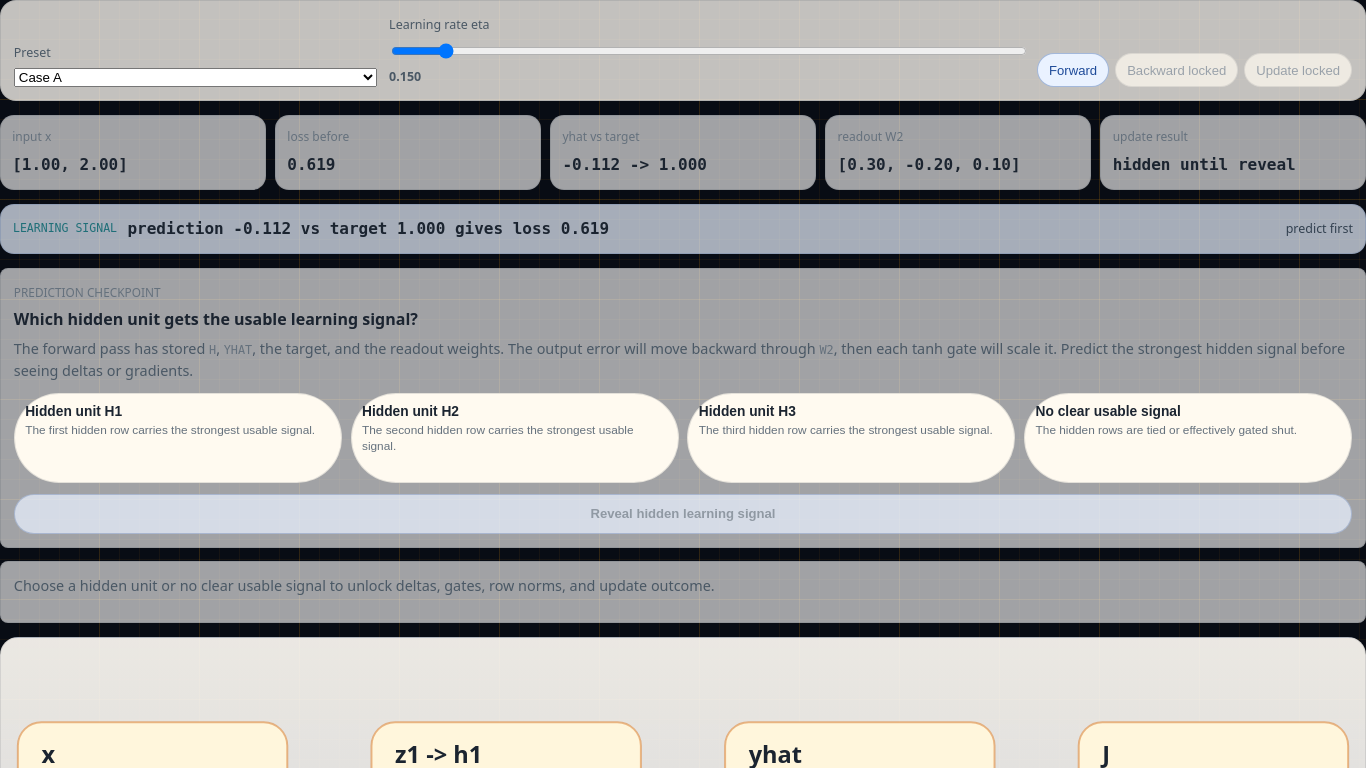
Test: BackpropagationViz hidden learning-signal reveal › keeps Case C neutral until reveal, then exposes no clear usable hidden signal
Step 1. Select "Case C" in the dropdown labelled "Preset" → (195, 78), box x1=14 y1=68 x2=377 y2=87
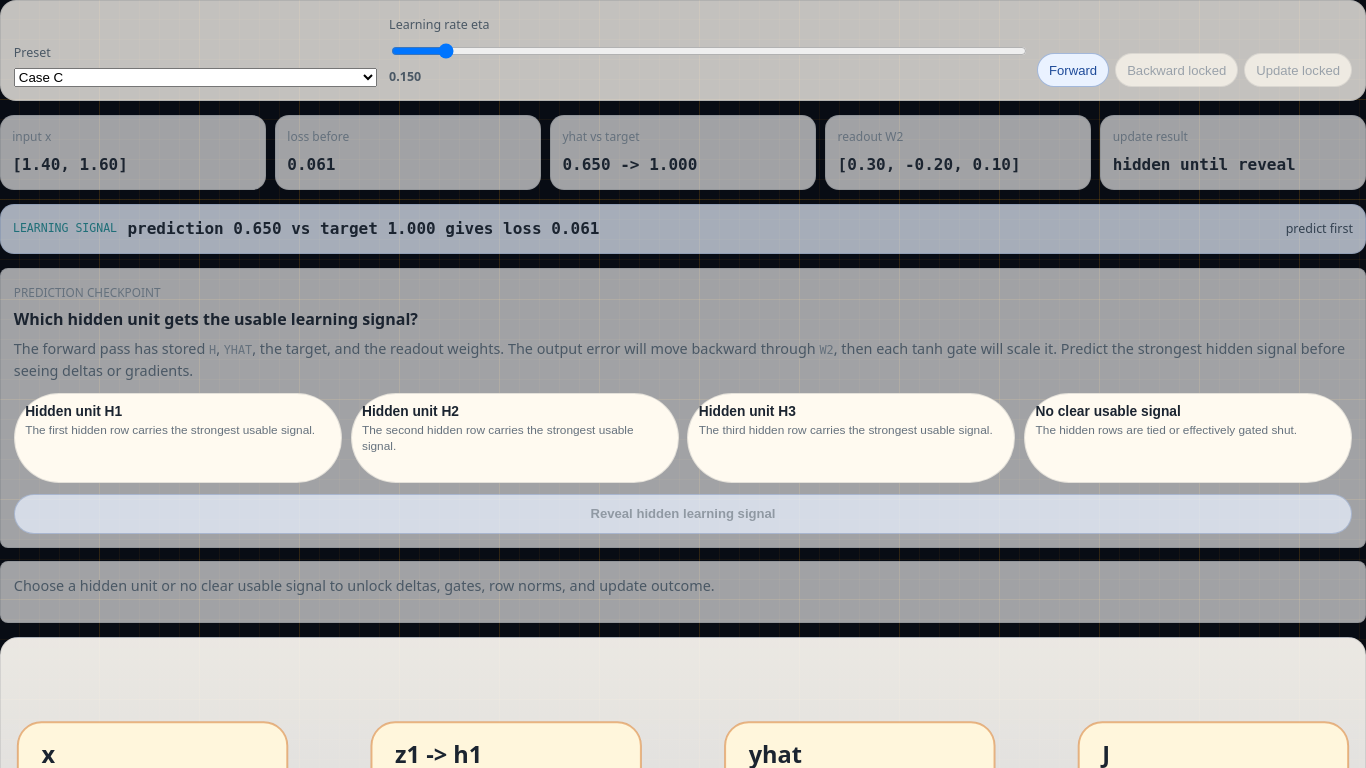
Step 2. Click the button "No clear usable signal" → (1188, 438), box x1=1024 y1=393 x2=1352 y2=483
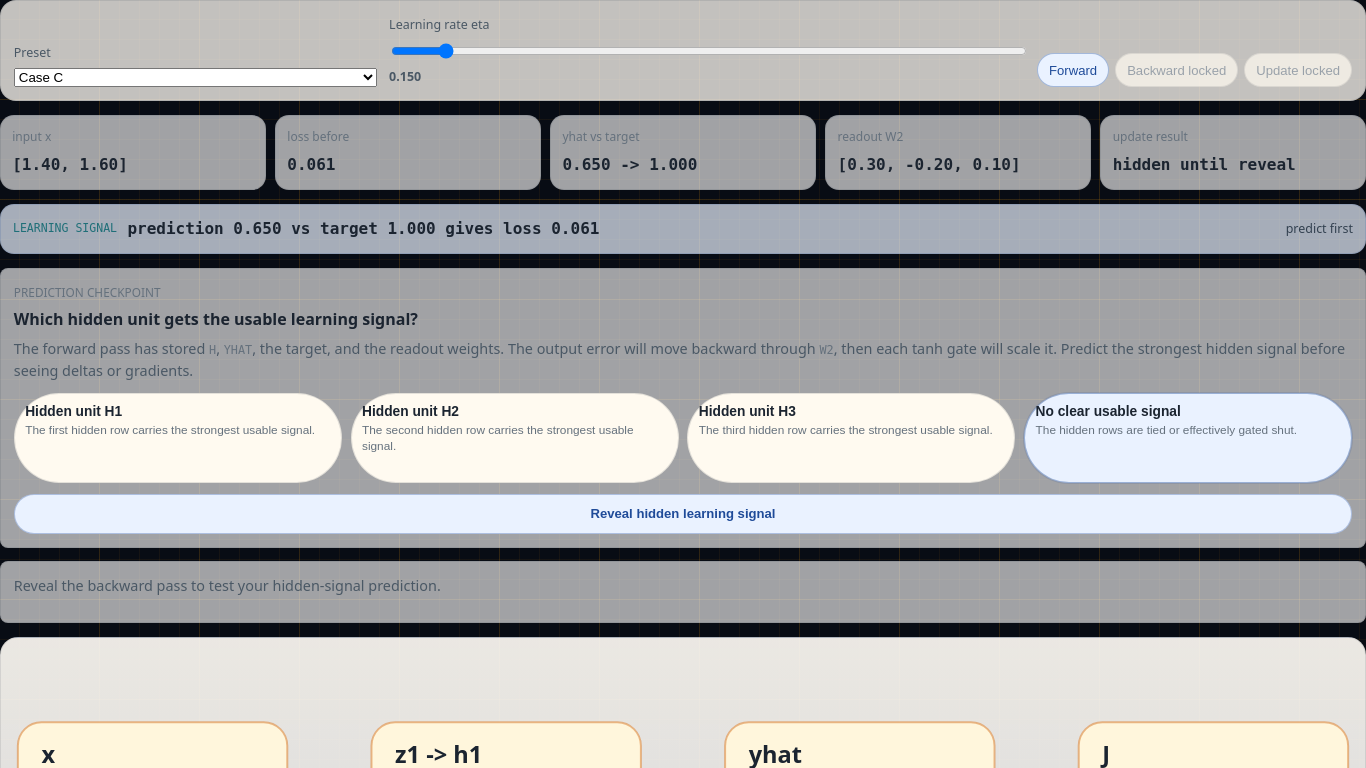
Step 3. Click the button "Reveal hidden learning signal" → (683, 514), box x1=14 y1=494 x2=1352 y2=534
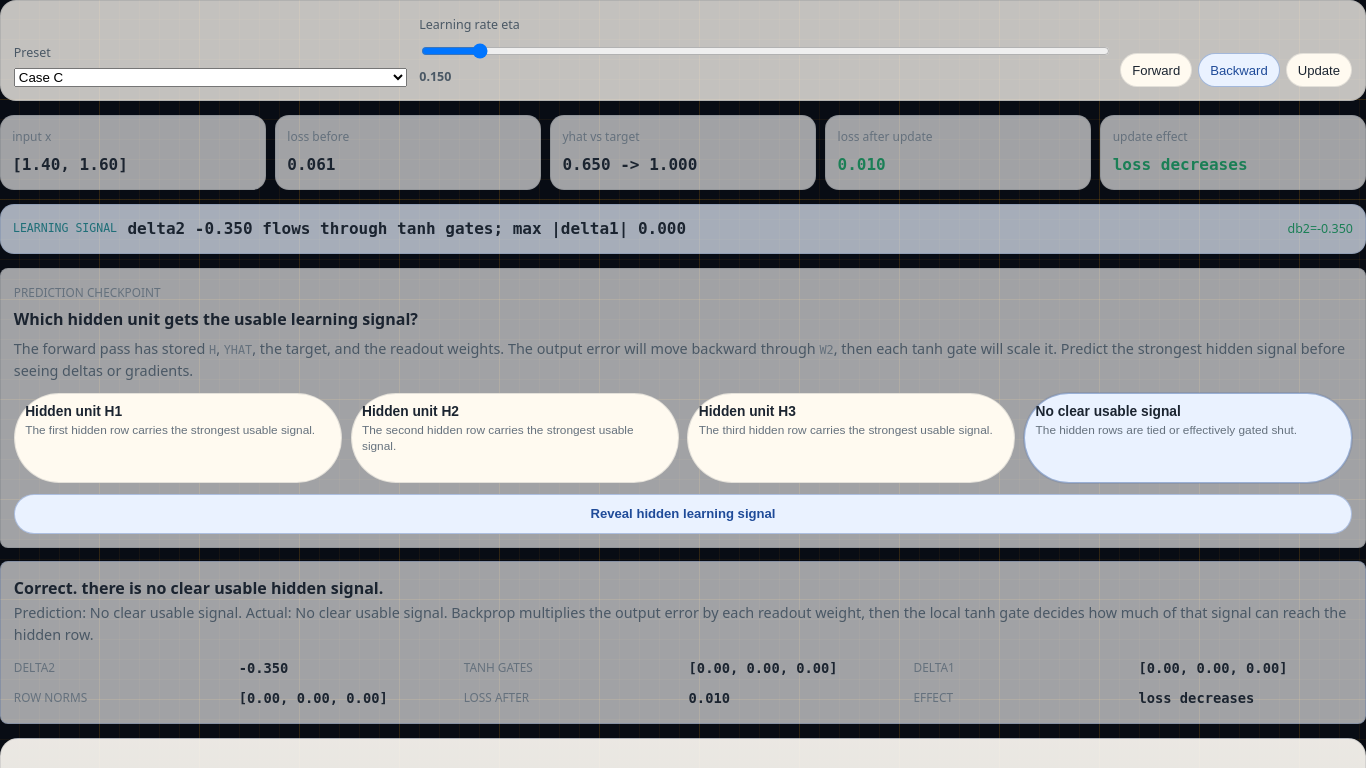
Expected: the heading "Correct. there is no clear usable hidden signal." is shown, x1=14 y1=577 x2=383 y2=599
Expected: the text "Actual: No clear usable signal" is shown, x1=14 y1=602 x2=1352 y2=646
Expected: the text "no clear usable hidden signal" is shown, x1=82 y1=577 x2=379 y2=599
